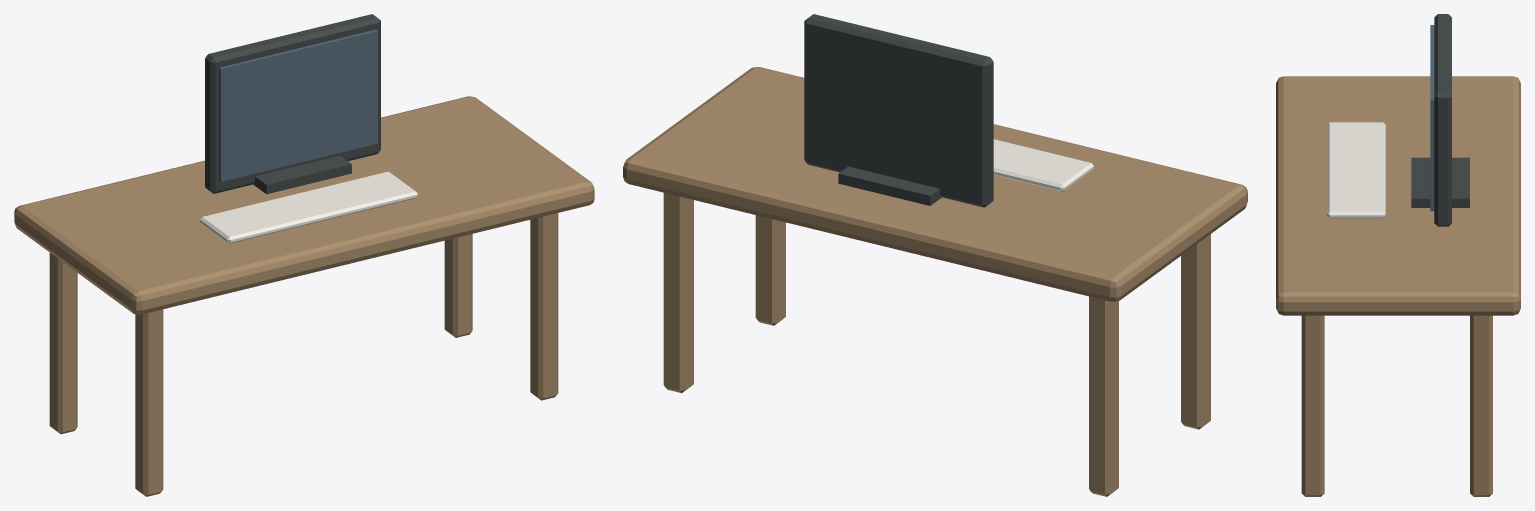
The model's file is desk.glb.
3 views of the same model, side by side, from view 1: azimuth 30°, elevation 25°; view 2: azimuth 150°, elevation 25°; view 3: azimuth 270°, elevation 25° (orthographic). The views are drawn at different scales.
Visible parts, largest first — view 1: desk; view 2: desk; view 3: desk.
Part boxes in pixels (box(x1,y1,x2,y2)): desk: box(14, 14, 594, 496); desk: box(623, 14, 1247, 496); desk: box(1276, 14, 1520, 496).
Size of the model in its own units: 2.06 by 1.52 by 0.96.
